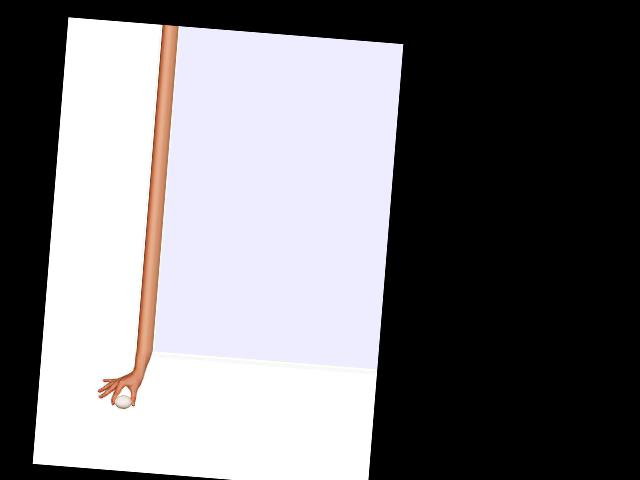egg: (114, 395, 132, 409)
